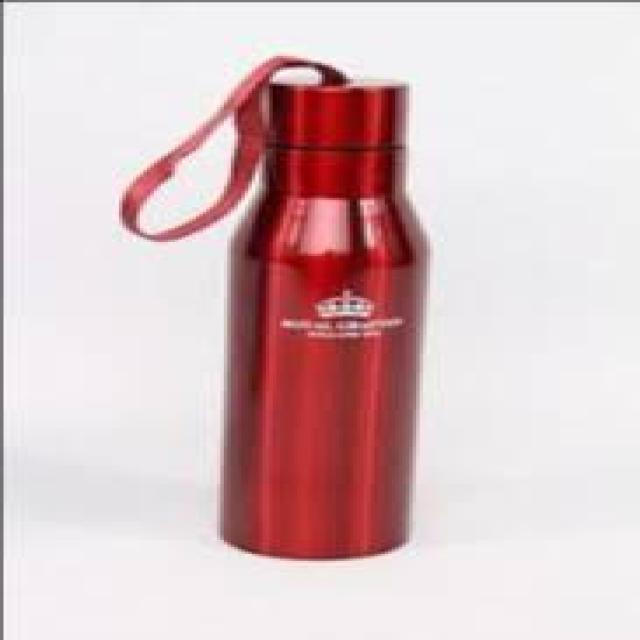bottle: (156, 53, 446, 561)
